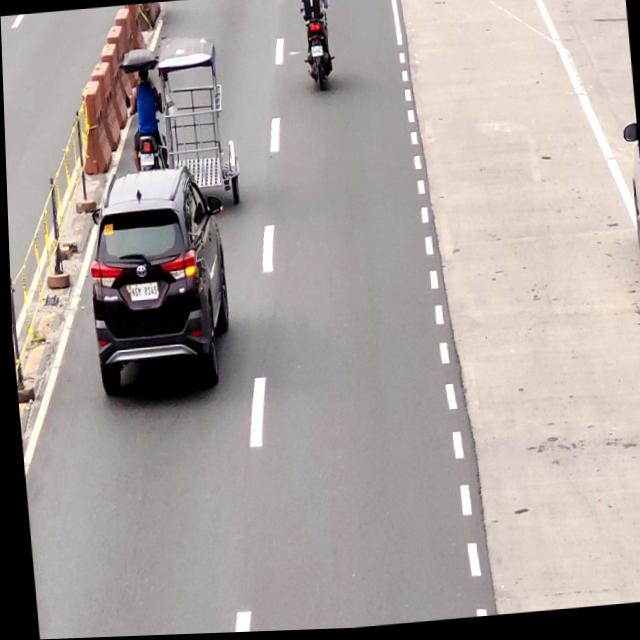Car: (78, 167, 232, 396)
License-Plate: (126, 280, 158, 303), (139, 152, 154, 168), (309, 48, 323, 60)
Motorcycle: (298, 0, 336, 97)
Tricycle: (119, 41, 243, 193)
